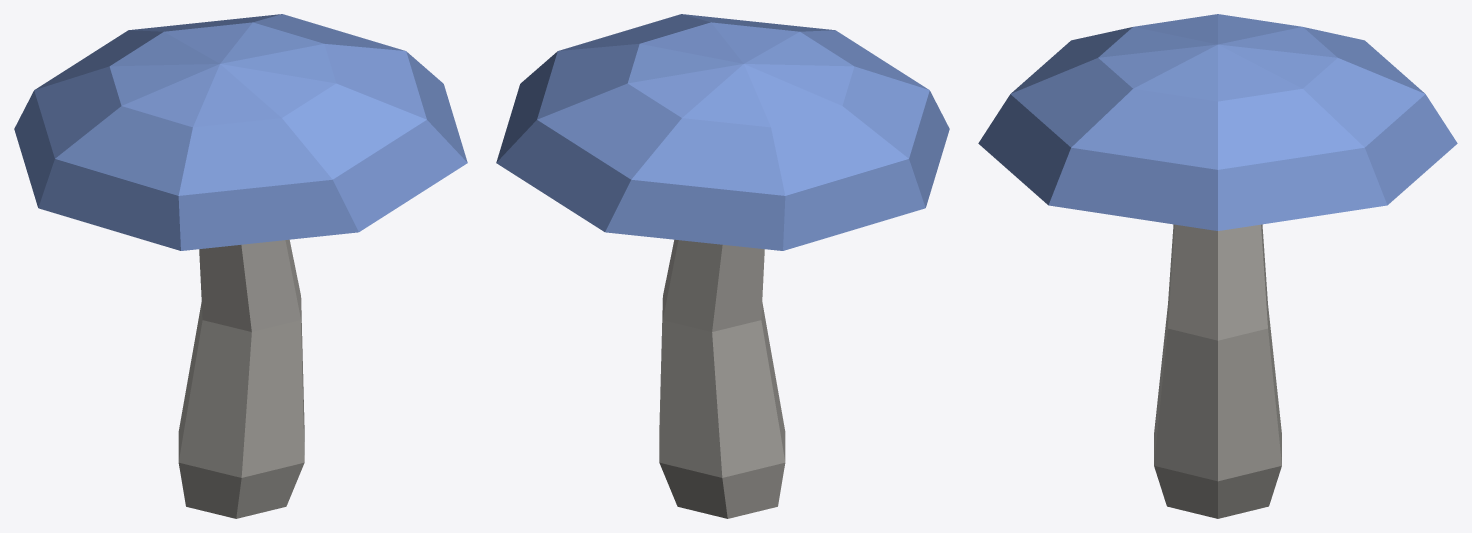
Rendered from GlowShroom2Round.fbx.
3 renders of one model, left to right at view 1: azimuth 30°, elevation 25°; view 2: azimuth 150°, elevation 25°; view 3: azimuth 270°, elevation 25°, orthographic.
Parts seen in each view (by area): view 1: GlowShroom2Round; view 2: GlowShroom2Round; view 3: GlowShroom2Round.
Part boxes in pixels (bbox=[...]): GlowShroom2Round: bbox=[14, 14, 467, 518]; GlowShroom2Round: bbox=[496, 14, 949, 518]; GlowShroom2Round: bbox=[978, 14, 1457, 518].
Size of the model in its own units: 8.86 by 9.07 by 8.93.
